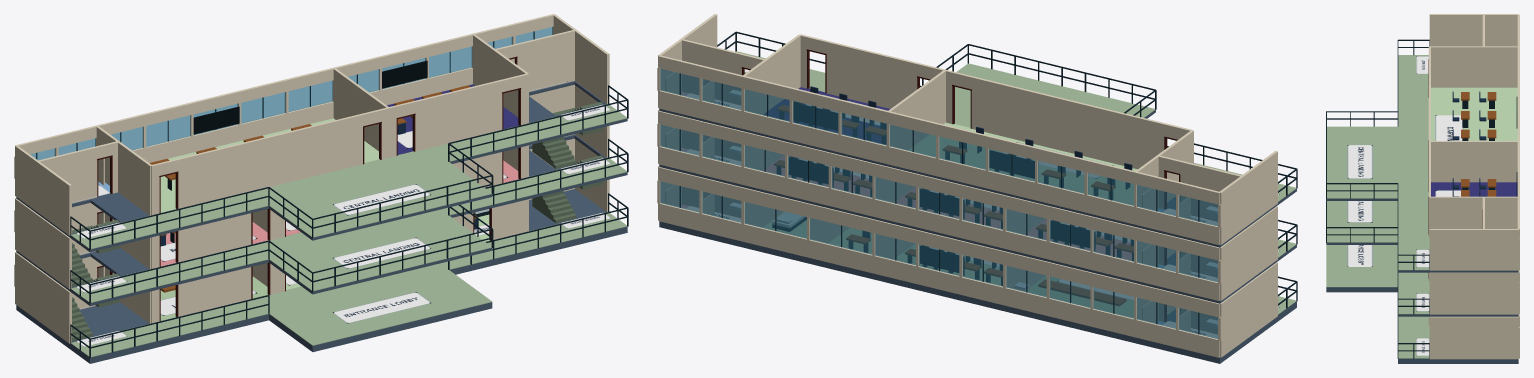
Rendered from ynares-rooms.obj.
3 renders of one model, left to right at view 1: azimuth 30°, elevation 25°; view 2: azimuth 150°, elevation 25°; view 3: azimuth 270°, elevation 25°, orthographic. The views are drawn at different scales.
Visible parts, largest first — view 1: front-wall, corridor, central-landing, floor-slab, partition, side-wall, guardrail, window-head-wall, window, window-sill-wall, rail-post, room-floor (+10 smaller); view 2: window, window-sill-wall, window-head-wall, front-wall, partition, side-wall, floor-slab, room-floor, teaching-board, window-pier, stall-divider, central-landing (+10 smaller); view 3: side-wall, partition, central-landing, corridor, room-floor, floor-slab, guardrail, label-2-lobby, table, window-head-wall, label-2-ynares-f2-darwin, front-wall (+11 smaller).
Boxes of the visible parts, x1=… form: front-wall: x1=38, y1=29, x2=575, y2=323; corridor: x1=71, y1=104, x2=627, y2=357; central-landing: x1=269, y1=161, x2=492, y2=345; floor-slab: x1=16, y1=81, x2=627, y2=363; partition: x1=15, y1=34, x2=528, y2=323; side-wall: x1=15, y1=14, x2=609, y2=343; guardrail: x1=70, y1=85, x2=628, y2=348; window-head-wall: x1=15, y1=14, x2=553, y2=198; window: x1=30, y1=27, x2=552, y2=160; window-sill-wall: x1=132, y1=58, x2=514, y2=162; rail-post: x1=70, y1=86, x2=628, y2=357; room-floor: x1=98, y1=84, x2=518, y2=320; window: x1=660, y1=68, x2=1217, y2=338; window-sill-wall: x1=658, y1=90, x2=1219, y2=357; window-head-wall: x1=658, y1=55, x2=1220, y2=317; front-wall: x1=681, y1=34, x2=1242, y2=334; partition: x1=742, y1=34, x2=1243, y2=357; side-wall: x1=658, y1=14, x2=1277, y2=354; floor-slab: x1=659, y1=73, x2=1296, y2=363; room-floor: x1=681, y1=87, x2=1164, y2=324; teaching-board: x1=789, y1=102, x2=1095, y2=273; window-pier: x1=657, y1=67, x2=1221, y2=340; stall-divider: x1=665, y1=72, x2=1190, y2=331; central-landing: x1=955, y1=63, x2=1155, y2=117; side-wall: x1=1429, y1=14, x2=1518, y2=359; partition: x1=1429, y1=14, x2=1518, y2=228; central-landing: x1=1326, y1=126, x2=1397, y2=287; corridor: x1=1398, y1=55, x2=1429, y2=358; room-floor: x1=1431, y1=87, x2=1517, y2=196; floor-slab: x1=1326, y1=198, x2=1518, y2=363; guardrail: x1=1326, y1=39, x2=1429, y2=351; label-2-lobby: x1=1347, y1=145, x2=1372, y2=178; table: x1=1461, y1=92, x2=1496, y2=196; window-head-wall: x1=1517, y1=14, x2=1519, y2=326; label-2-ynares-f2-darwin: x1=1435, y1=115, x2=1463, y2=140; front-wall: x1=1428, y1=14, x2=1484, y2=326.
Bounding box in the file's own units: 32.15 × 9.34 × 12.2.
52 materials, 24 textured.
